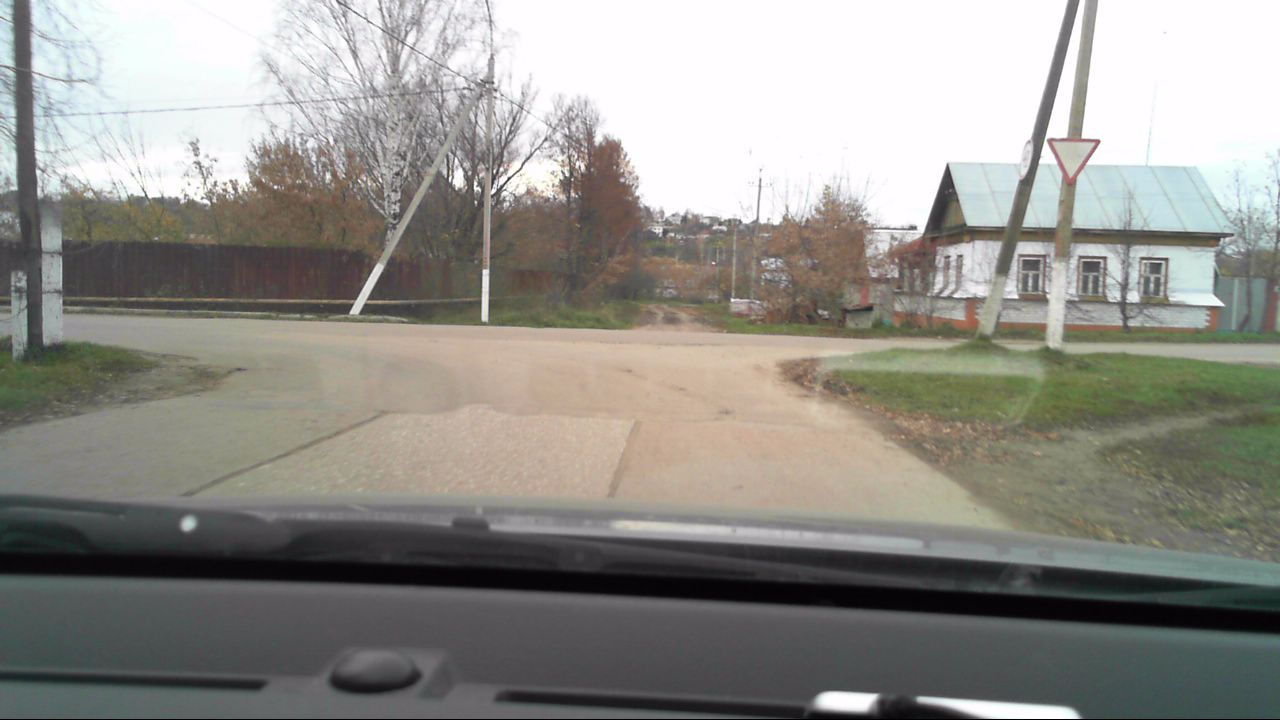speed_warning_40: (1015, 139, 1038, 183)
